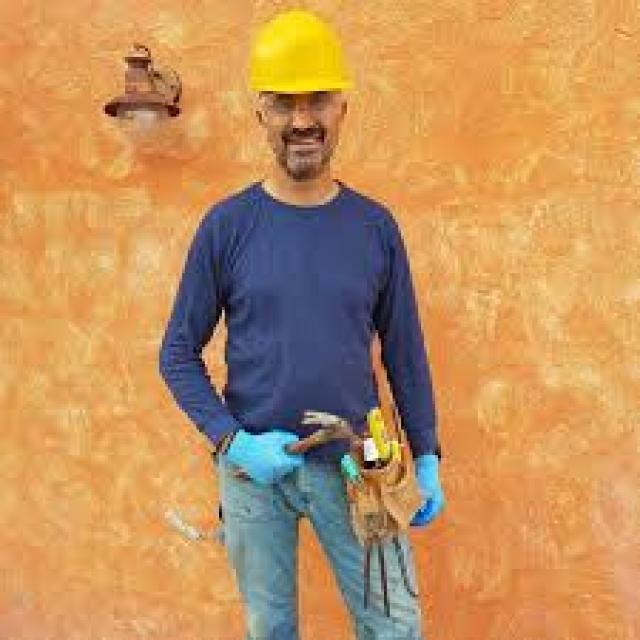NoVest: (197, 181, 412, 460)
